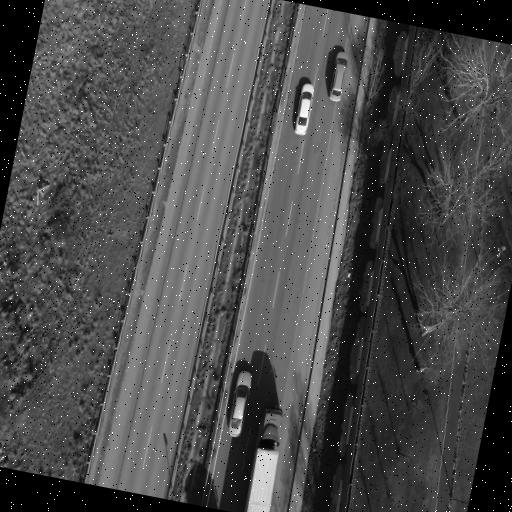UAI: (246, 408, 283, 511)
person: (229, 372, 251, 437), (295, 84, 314, 135), (329, 52, 347, 102)
